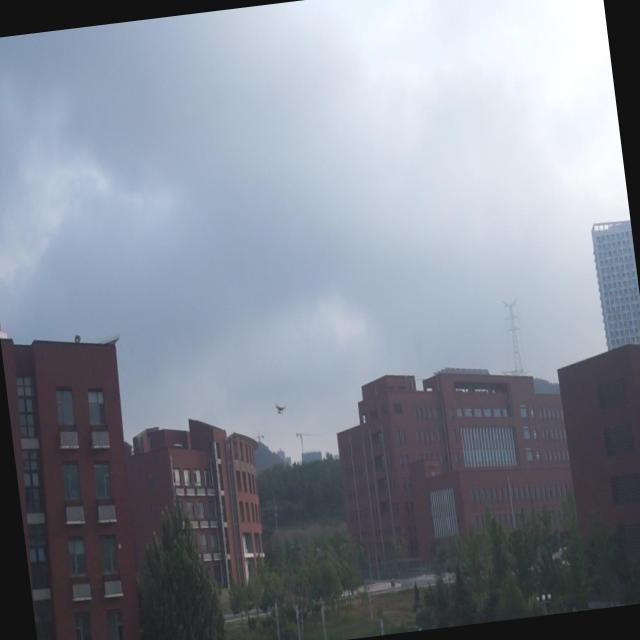drone: (272, 398, 288, 420)
